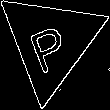P_N: (26, 12, 75, 73)
